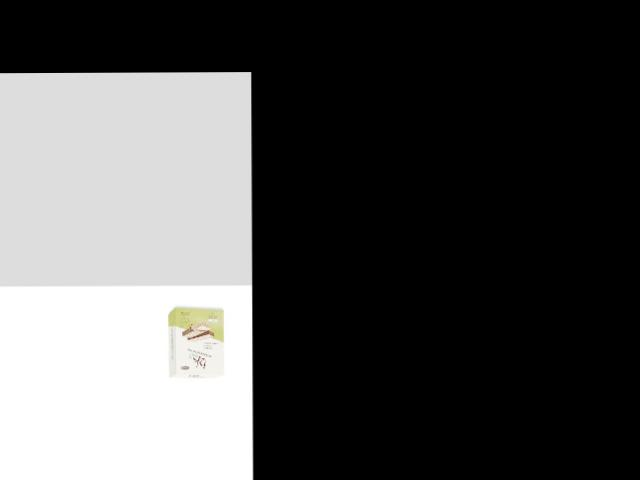chocolate: (164, 303, 230, 379)
